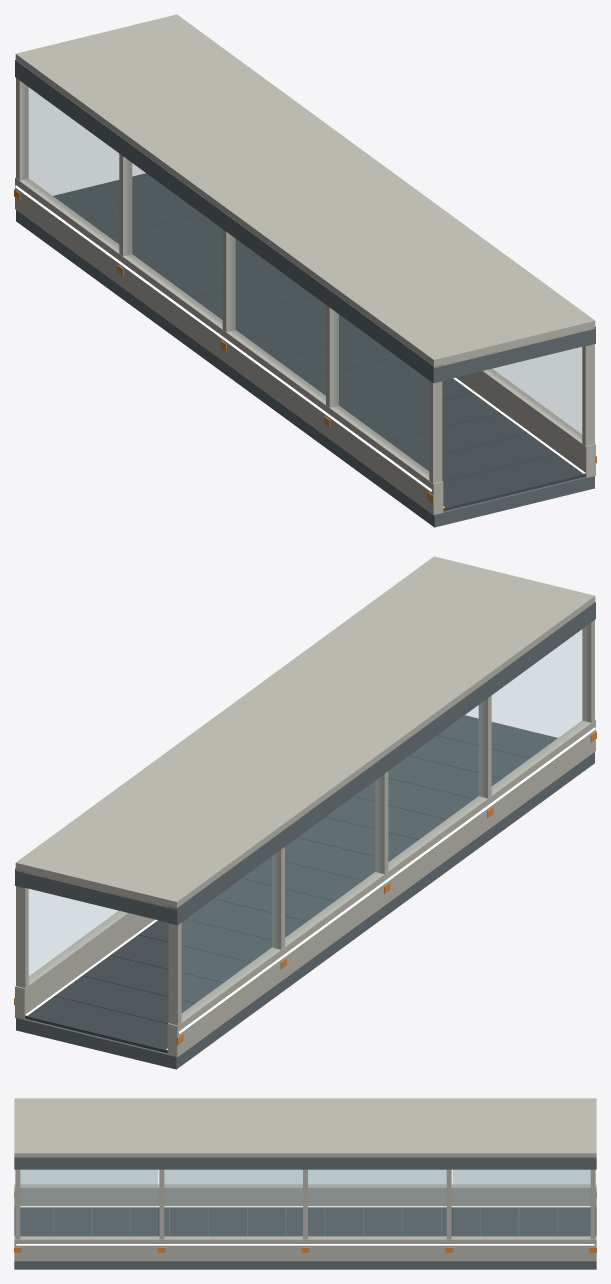
Rendered from greenhouse-walkway.glb.
The picture shows the model from 3 angles, top to bottom: view 1: azimuth 30°, elevation 25°; view 2: azimuth 150°, elevation 25°; view 3: azimuth 270°, elevation 25°; orthographic projection. The views are drawn at different scales.
Parts seen in each view (by area): view 1: Roof panel, Pressure window (×5), Raised deck tile (×15), Lower service chase (×2), Window jamb (×6), Roof edge beam, Insulated floor cassette, Header, Recessed marker strip; view 2: Roof panel, Pressure window (×5), Raised deck tile (×15), Lower service chase (×2), Window jamb (×6), Roof edge beam, Insulated floor cassette, Header, Recessed marker strip; view 3: Pressure window (×8), Roof panel, Lower service chase (×2), Raised deck tile (×15), Roof edge beam, Insulated floor cassette, Window jamb (×5), Recessed marker strip, Footway light.
Boxes of the visible parts, bbox=[...] form: Roof panel: bbox=[15, 14, 595, 367]; Pressure window (×5): bbox=[23, 84, 581, 475]; Raised deck tile (×15): bbox=[53, 173, 585, 511]; Lower service chase (×2): bbox=[15, 177, 595, 515]; Window jamb (×6): bbox=[16, 78, 594, 483]; Roof edge beam: bbox=[15, 60, 443, 383]; Insulated floor cassette: bbox=[16, 210, 594, 527]; Header: bbox=[434, 327, 594, 382]; Recessed marker strip: bbox=[15, 185, 431, 491]; Roof panel: bbox=[15, 556, 595, 909]; Pressure window (×5): bbox=[29, 626, 587, 1017]; Raised deck tile (×15): bbox=[25, 715, 557, 1053]; Lower service chase (×2): bbox=[15, 719, 595, 1057]; Window jamb (×6): bbox=[16, 620, 594, 1025]; Roof edge beam: bbox=[167, 602, 595, 925]; Insulated floor cassette: bbox=[16, 752, 594, 1069]; Header: bbox=[19, 871, 174, 923]; Recessed marker strip: bbox=[179, 727, 595, 1033]; Pressure window (×8): bbox=[20, 1170, 590, 1237]; Roof panel: bbox=[14, 1098, 596, 1157]; Lower service chase (×2): bbox=[14, 1184, 596, 1261]; Raised deck tile (×15): bbox=[14, 1207, 596, 1236]; Roof edge beam: bbox=[14, 1157, 596, 1169]; Insulated floor cassette: bbox=[14, 1209, 596, 1269]; Window jamb (×5): bbox=[15, 1169, 595, 1239]; Recessed marker strip: bbox=[16, 1244, 594, 1245]; Footway light: bbox=[20, 1206, 590, 1207].
Size of the model in its own units: 3.4 by 3.32 by 15.02.
